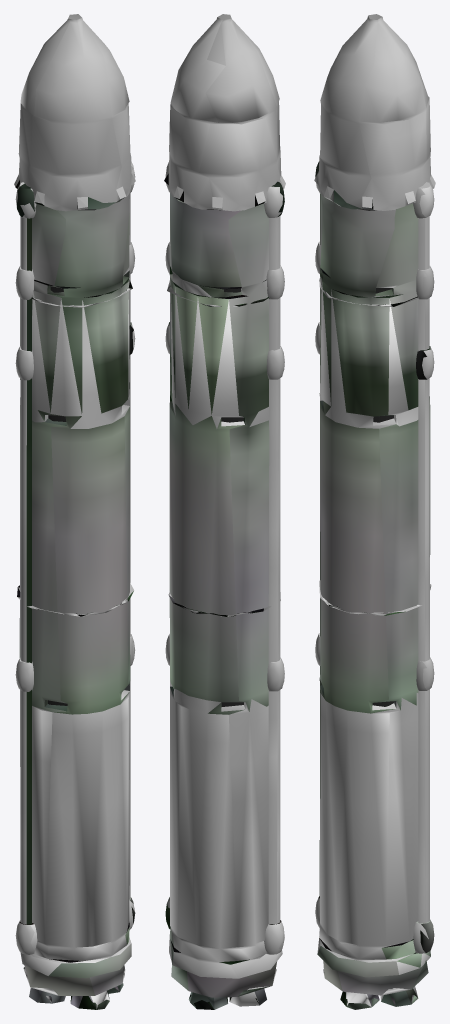
The model's file is nuclear.glb.
3 views of the same model, side by side, from view 1: azimuth 30°, elevation 25°; view 2: azimuth 150°, elevation 25°; view 3: azimuth 330°, elevation 25° (orthographic).
Visible parts, largest first — view 1: nuclear; view 2: nuclear; view 3: nuclear.
Part boxes in pixels (x1,y1,x2,y2): nuclear: (14, 14, 135, 1009); nuclear: (164, 14, 285, 1009); nuclear: (314, 14, 435, 1009).
Bounding box in the file's own units: 4.25 × 34 × 3.67.
Materials: 2 (2 with a texture image).
